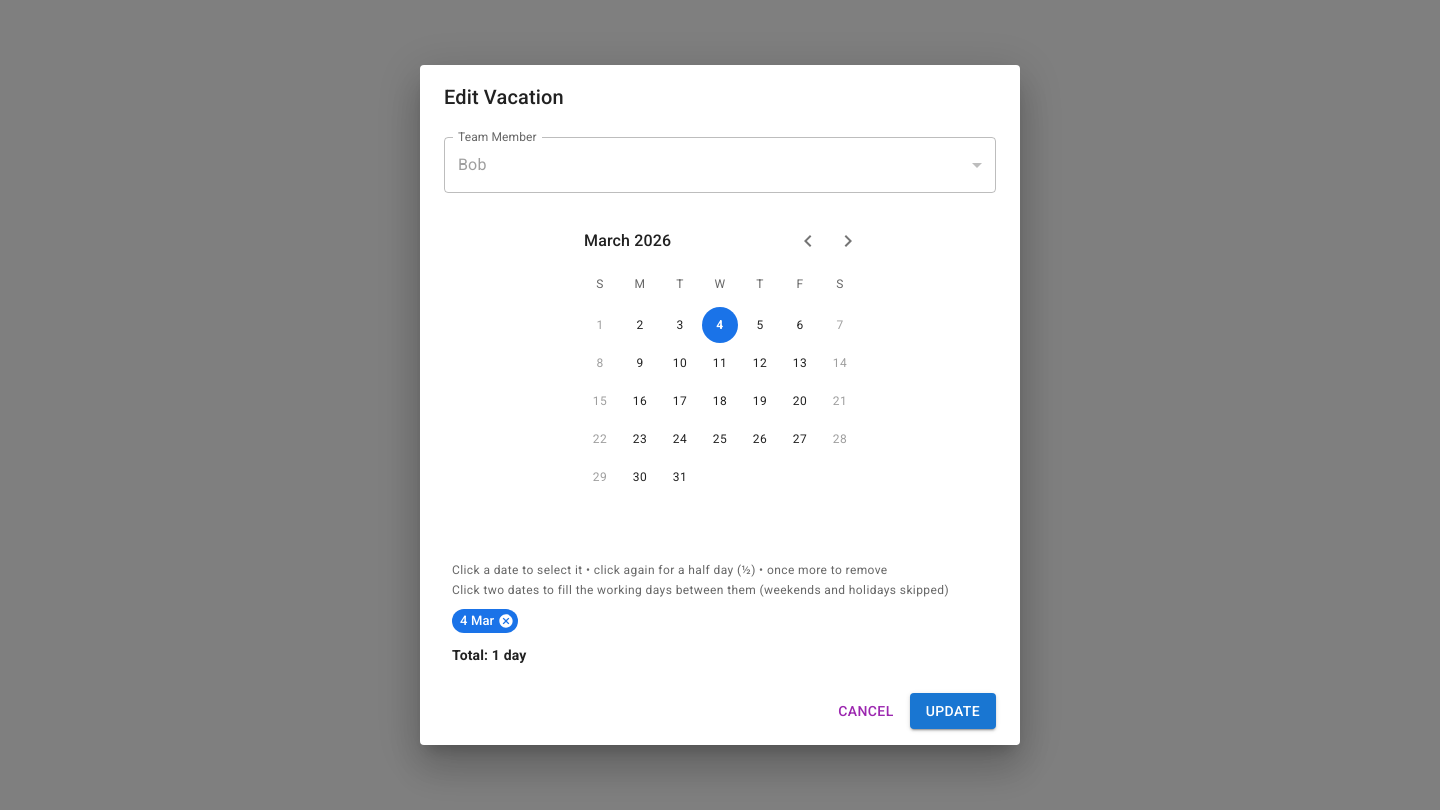
Test: LeaveDialog › disables Update again when every date chip is removed
Click the 4th icon: (506, 621) [498,613,514,629]
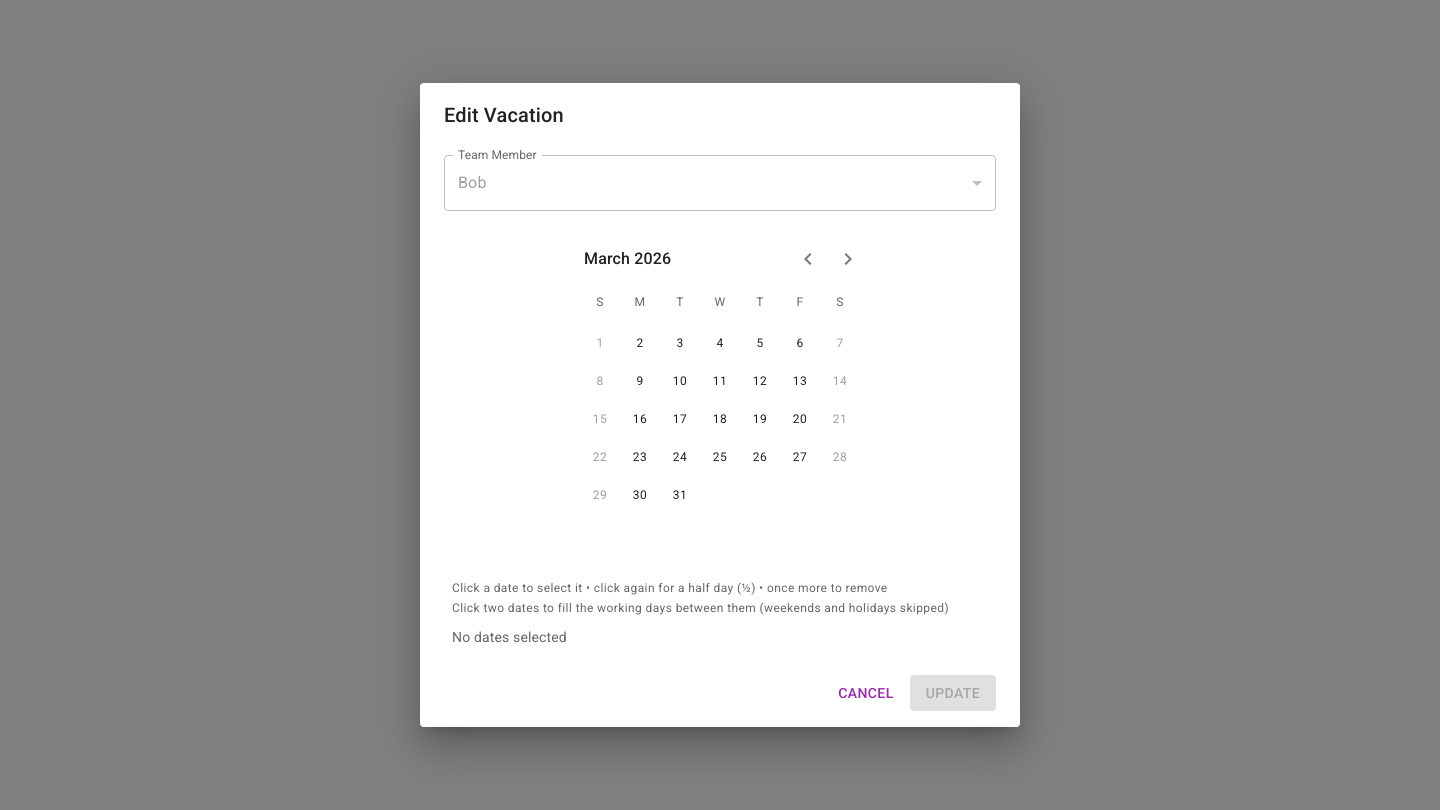
Result: the text "No dates selected" is shown at [452,629,567,645]
Result: the button "Update" is disabled at [910,675,996,711]
